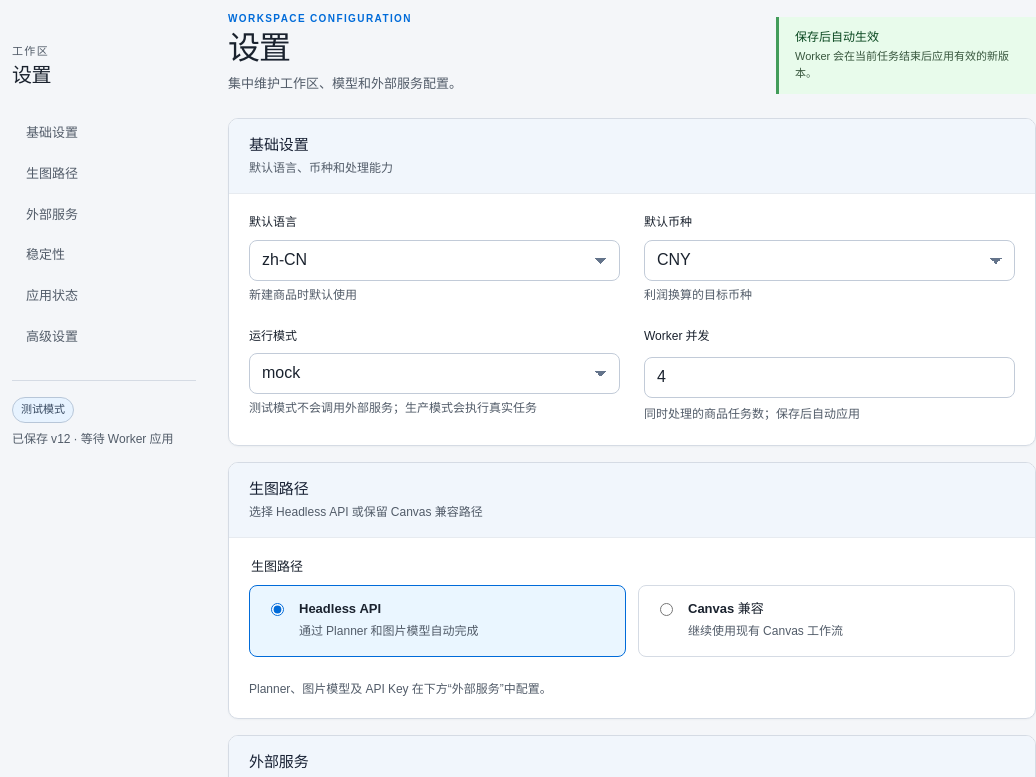
it: SettingsWorkspace › PATCH 409 keeps the save bar visible and shows conflict copy
Select "th-TH" in the dropdown labelled "默认语言": (434, 260) left=249, top=240, right=620, bottom=281
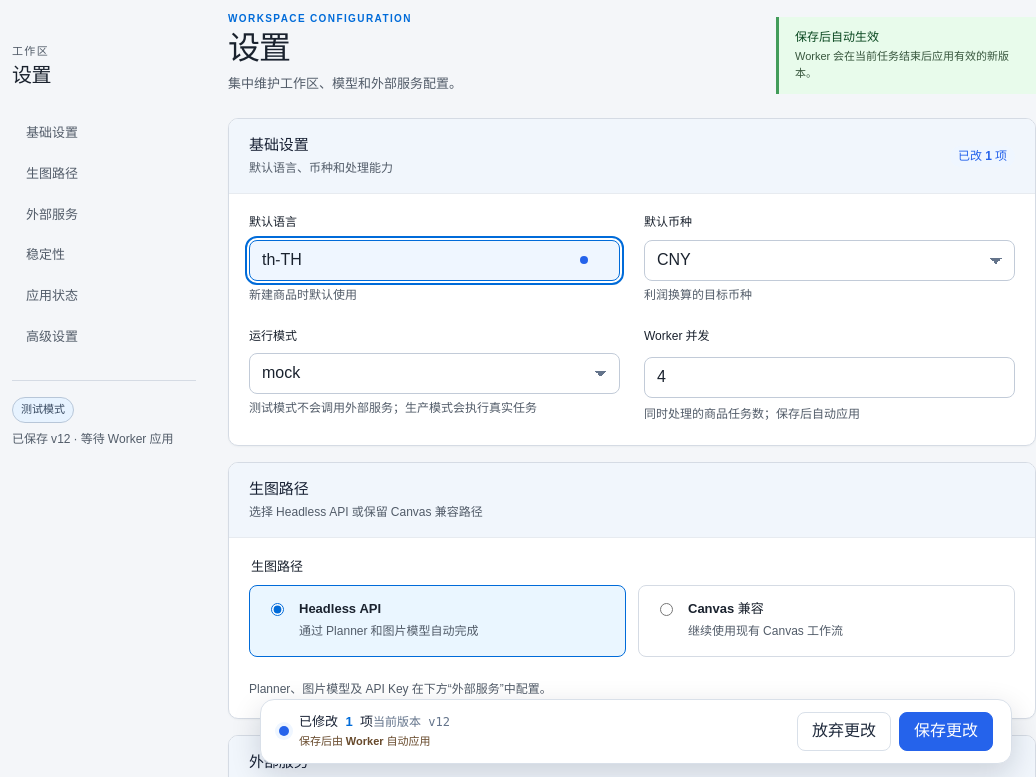
Click the button "保存更改": (946, 731) left=899, top=712, right=993, bottom=751
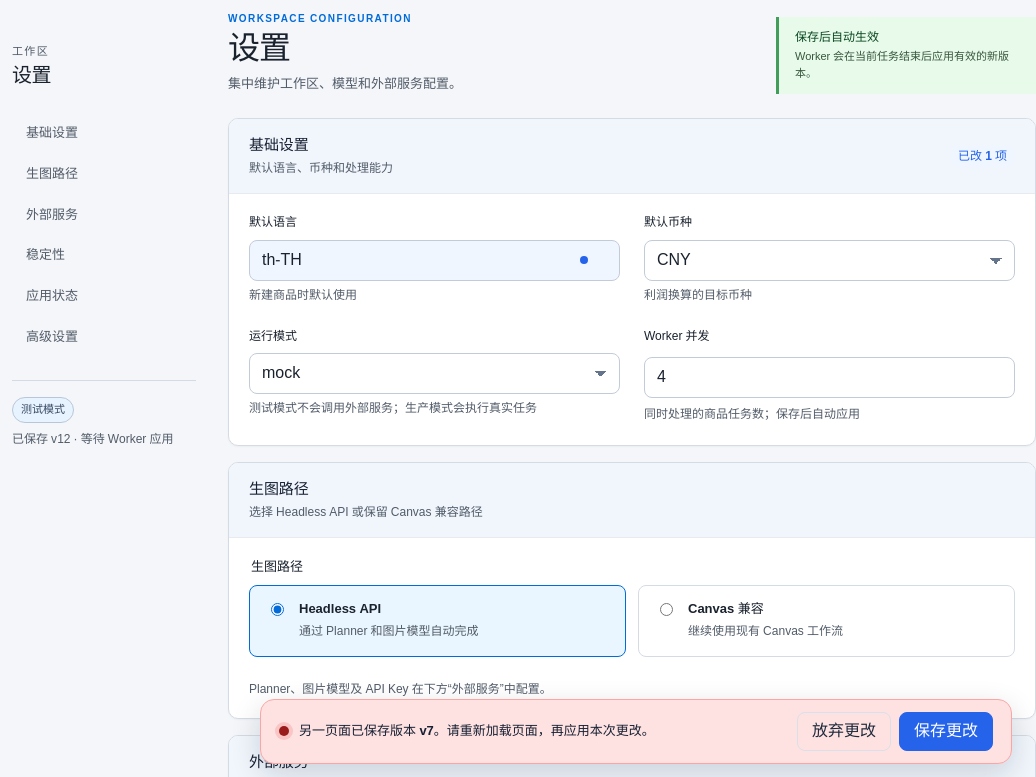
Now the element named "保存栏" shows "v7", box left=299, top=721, right=655, bottom=741
